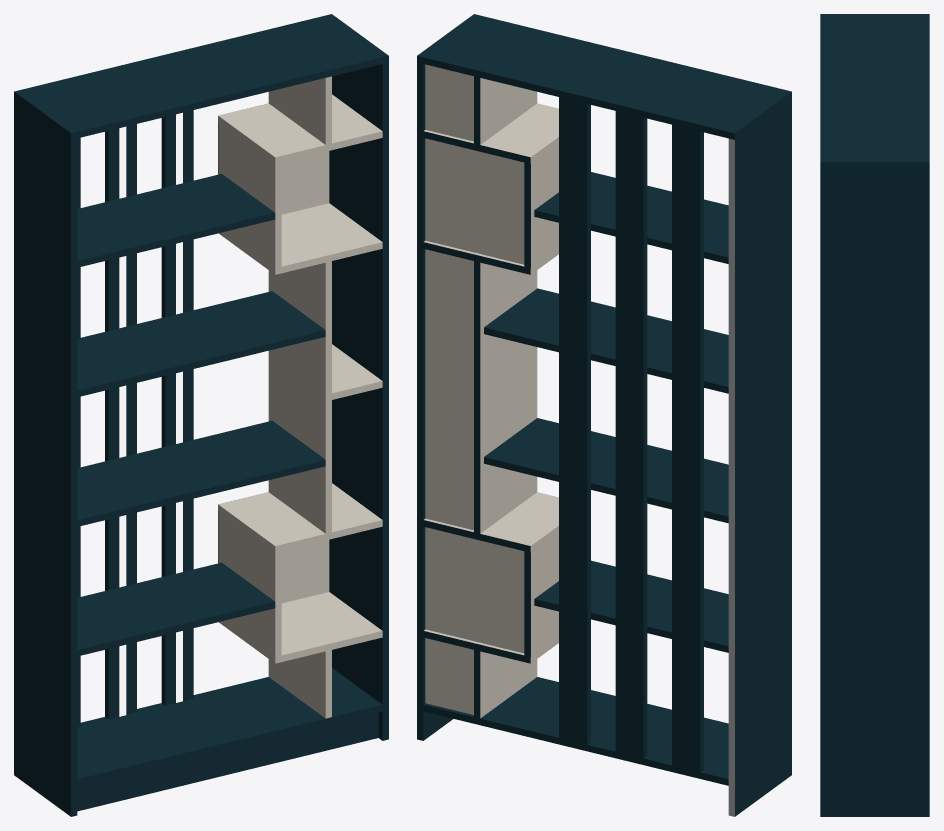
The picture shows the model from 3 angles, left to right: view 1: azimuth 30°, elevation 25°; view 2: azimuth 150°, elevation 25°; view 3: azimuth 270°, elevation 25°; orthographic projection. The views are drawn at different scales.
Parts seen in each view (by area): view 1: Edgeband11 - Parça 2, Edgeband21 - Parça 2, Edgeband5[1] - Parça, Edgeband21 - Parça 4, Edgeband21 - Parça 12, Edgeband21 - Parça 11, Edgeband21 - Parça 6, Edgeband21 - Parça 10, Edgeband21 - Parça 9, KITAPLIKA-XSKT1_BAZALI_GOVDE_1_BAZA-1 - Parça 2, Edgeband21 - Parça 13, Edgeband21 - Parça 14 (+31 smaller); view 2: Edgeband11 - Parça 2, Edgeband21 - Parça 13, Edgeband21 - Parça 14, Edgeband21 - Parça 7, Edgeband5[1] - Parça, KITAPLIKA-XSKT1_Arkalık_8_Arkalık_Arkalık_1_Yeni-1 - Parça, Edgeband21 - Parça 6, KITAPLIKA-XSKT1_Arkalık_7_Arkalık_Arkalık_1_Yeni-1 - Parça, KITAPLIKA-XSKT1_Arkalık_10_Arkalık_Arkalık_1_Yeni-1 - Parça, Edgeband21 - Parça 4, Edgeband21 - Parça 11, Edgeband21 - Parça 12 (+29 smaller); view 3: Edgeband21 - Parça 2, Edgeband5[1] - Parça, Edgeband3[2] - Parça, Edgeband12 - Parça 2, Edgeband22 - Parça 2.
Boxes of the visible parts, left/top/right/bottom form: Edgeband11 - Parça 2: left=14, top=98, right=70, bottom=816; Edgeband21 - Parça 2: left=329, top=64, right=382, bottom=740; Edgeband5[1] - Parça: left=14, top=14, right=388, bottom=132; Edgeband21 - Parça 4: left=77, top=668, right=381, bottom=778; Edgeband21 - Parça 12: left=77, top=291, right=324, bottom=390; Edgeband21 - Parça 11: left=77, top=420, right=324, bottom=519; Edgeband21 - Parça 6: left=268, top=262, right=325, bottom=533; Edgeband21 - Parça 10: left=77, top=562, right=274, bottom=649; Edgeband21 - Parça 9: left=77, top=174, right=274, bottom=260; KITAPLIKA-XSKT1_BAZALI_GOVDE_1_BAZA-1 - Parça 2: left=77, top=712, right=378, bottom=811; Edgeband21 - Parça 13: left=109, top=124, right=136, bottom=719; Edgeband21 - Parça 14: left=165, top=110, right=193, bottom=705; Edgeband11 - Parça 2: left=735, top=98, right=791, bottom=816; Edgeband21 - Parça 13: left=615, top=111, right=643, bottom=758; Edgeband21 - Parça 14: left=559, top=97, right=586, bottom=744; Edgeband21 - Parça 7: left=672, top=124, right=699, bottom=771; Edgeband5[1] - Parça: left=417, top=14, right=791, bottom=132; KITAPLIKA-XSKT1_Arkalık_8_Arkalık_Arkalık_1_Yeni-1 - Parça: left=425, top=249, right=473, bottom=530; Edgeband21 - Parça 6: left=480, top=262, right=537, bottom=533; KITAPLIKA-XSKT1_Arkalık_7_Arkalık_Arkalık_1_Yeni-1 - Parça: left=425, top=138, right=524, bottom=264; KITAPLIKA-XSKT1_Arkalık_10_Arkalık_Arkalık_1_Yeni-1 - Parça: left=425, top=527, right=524, bottom=653; Edgeband21 - Parça 4: left=424, top=677, right=728, bottom=778; Edgeband21 - Parça 11: left=484, top=418, right=728, bottom=516; Edgeband21 - Parça 12: left=484, top=288, right=728, bottom=386; Edgeband21 - Parça 2: left=820, top=169, right=929, bottom=816; Edgeband5[1] - Parça: left=820, top=14, right=929, bottom=162; Edgeband3[2] - Parça: left=820, top=162, right=929, bottom=168; Edgeband12 - Parça 2: left=820, top=169, right=820, bottom=816; Edgeband22 - Parça 2: left=929, top=169, right=929, bottom=816.
Size of the model in its own units: 0.9 by 1.85 by 0.28.
Materials: 77 (73 with a texture image).
